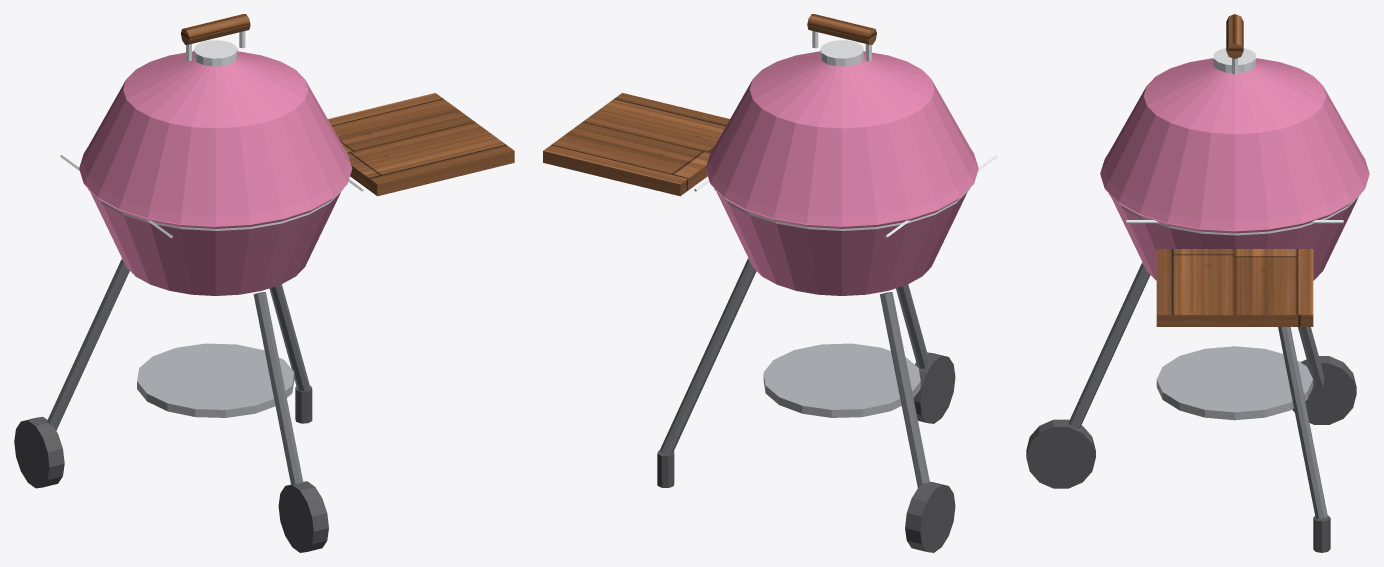
File: bbq.glb
3 views of the same model, side by side, from view 1: azimuth 30°, elevation 25°; view 2: azimuth 150°, elevation 25°; view 3: azimuth 270°, elevation 25° (orthographic).
Visible parts, largest first — view 1: bbq_accent, bbq_teak, bbq_steel, bbq_steel_d, bbq_rubber, bbq_chrome; view 2: bbq_accent, bbq_teak, bbq_steel, bbq_steel_d, bbq_rubber, bbq_chrome; view 3: bbq_accent, bbq_teak, bbq_steel, bbq_rubber, bbq_steel_d, bbq_chrome.
Part boxes in pixels (x1,y1,x2,y2): bbq_accent: [79, 51, 352, 295]; bbq_teak: [180, 14, 514, 196]; bbq_steel: [137, 343, 294, 417]; bbq_steel_d: [47, 258, 309, 484]; bbq_rubber: [14, 386, 328, 552]; bbq_chrome: [60, 31, 363, 238]; bbq_accent: [705, 51, 978, 295]; bbq_teak: [543, 14, 876, 196]; bbq_steel: [763, 343, 920, 417]; bbq_steel_d: [660, 258, 929, 487]; bbq_rubber: [657, 352, 955, 552]; bbq_chrome: [694, 31, 997, 238]; bbq_accent: [1100, 58, 1369, 280]; bbq_teak: [1156, 14, 1313, 326]; bbq_steel: [1156, 346, 1313, 420]; bbq_rubber: [1026, 356, 1356, 552]; bbq_steel_d: [1068, 262, 1327, 518]; bbq_chrome: [1108, 48, 1360, 235].
Size of the model in its own units: 1.05 by 1.16 by 0.79.
Materials: 6 (1 with a texture image).
